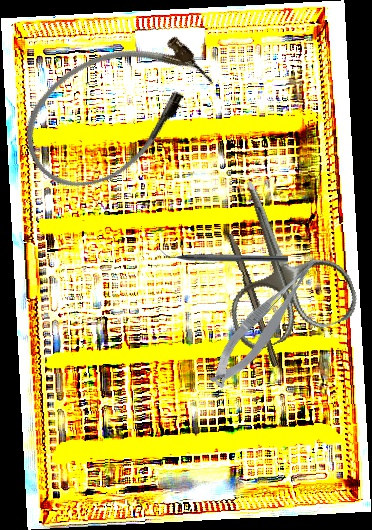Cannula: (1, 7, 230, 212)
Chopper: (158, 247, 288, 262)
Iris Scissors: (191, 160, 363, 356)
Micro Scissor: (197, 252, 335, 393)
Scalpel Handle: (224, 231, 284, 368)
